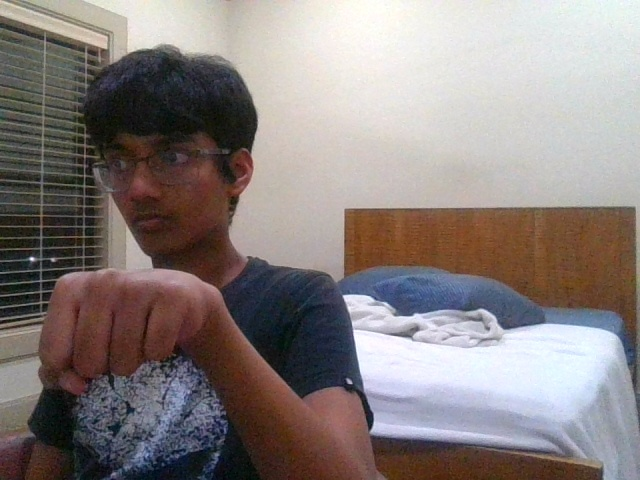yes: (38, 268, 206, 394)
